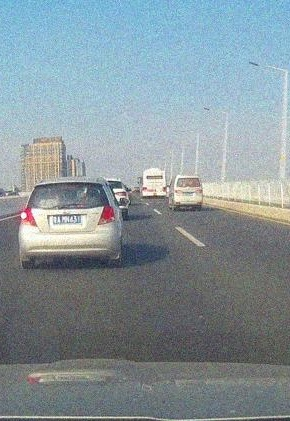L_light: (20, 207, 37, 226), (175, 190, 178, 193)
R_light: (97, 205, 116, 225), (198, 190, 202, 193)
T_light: (61, 183, 77, 186), (186, 178, 192, 180)
day-left: (19, 179, 118, 268)
day-no: (173, 176, 203, 210)
